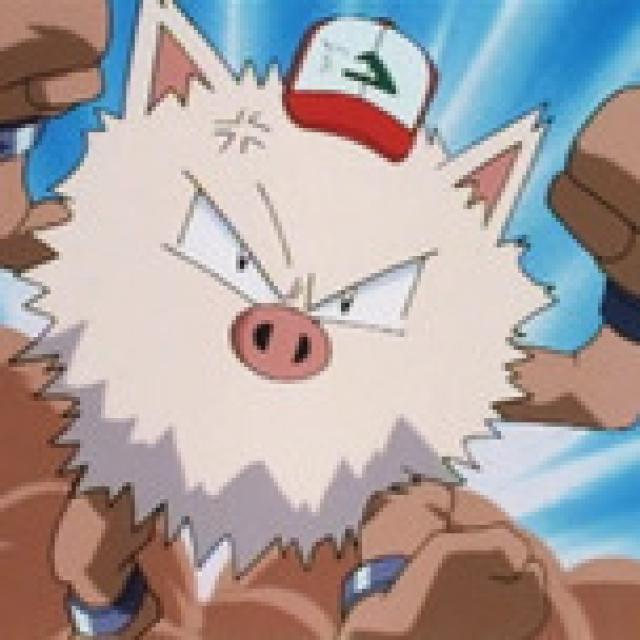Primeape: (43, 79, 553, 640)
